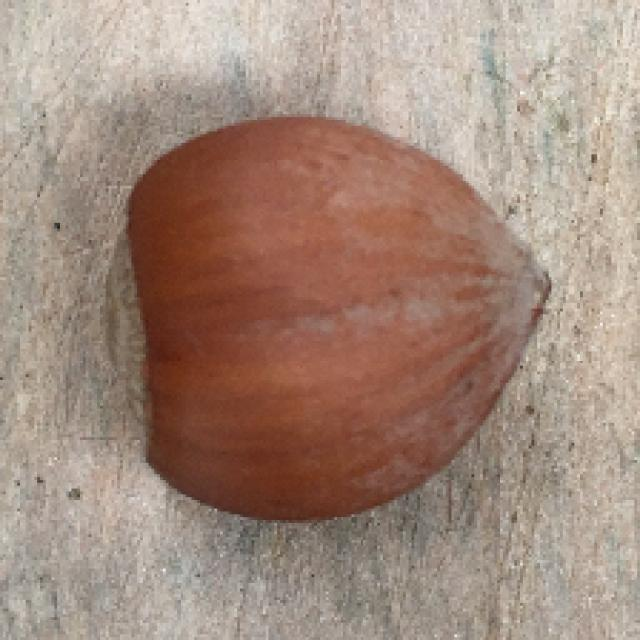hazelnut: (103, 83, 557, 538)
